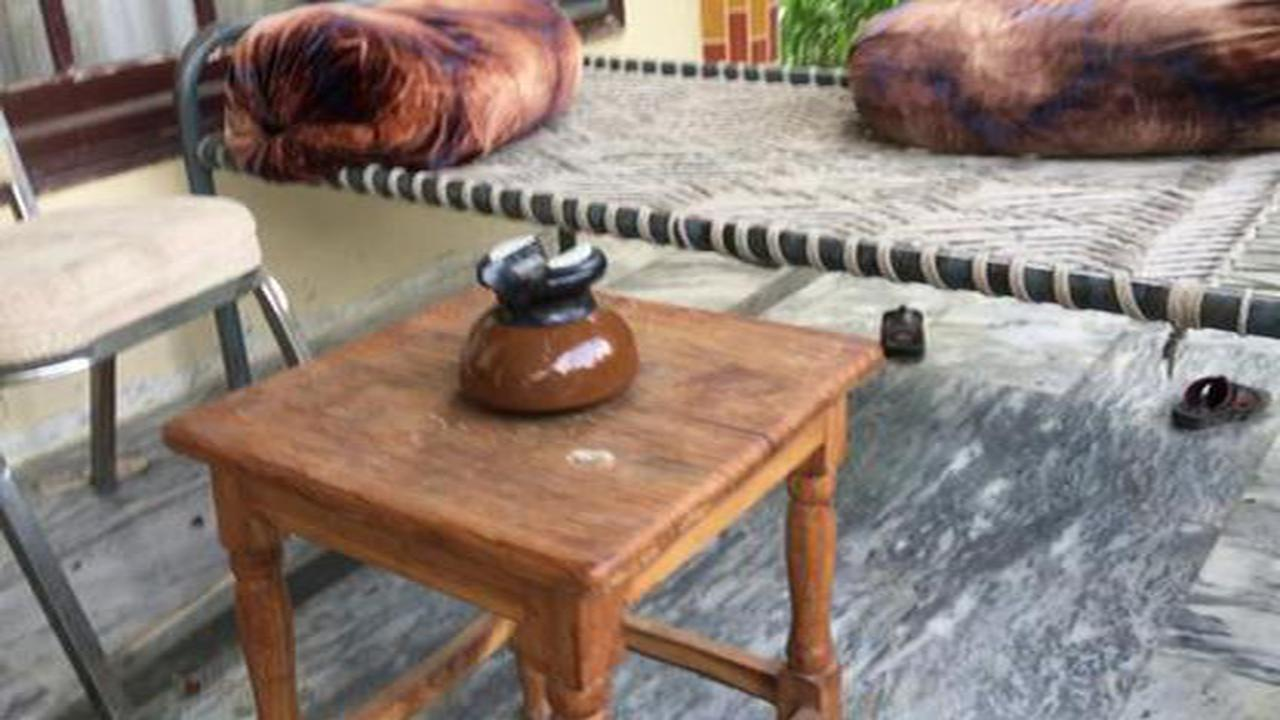insulator_pin: (431, 219, 653, 435)
